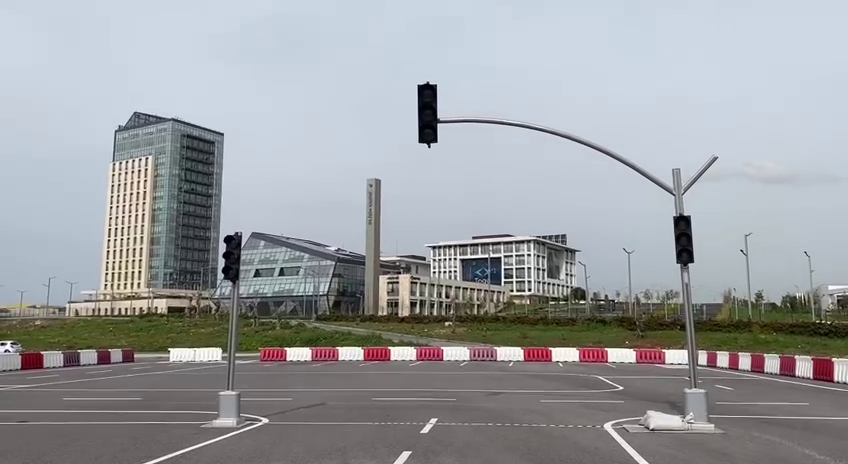trafficLight: (412, 76, 442, 151), (669, 211, 699, 269), (219, 228, 245, 285)
